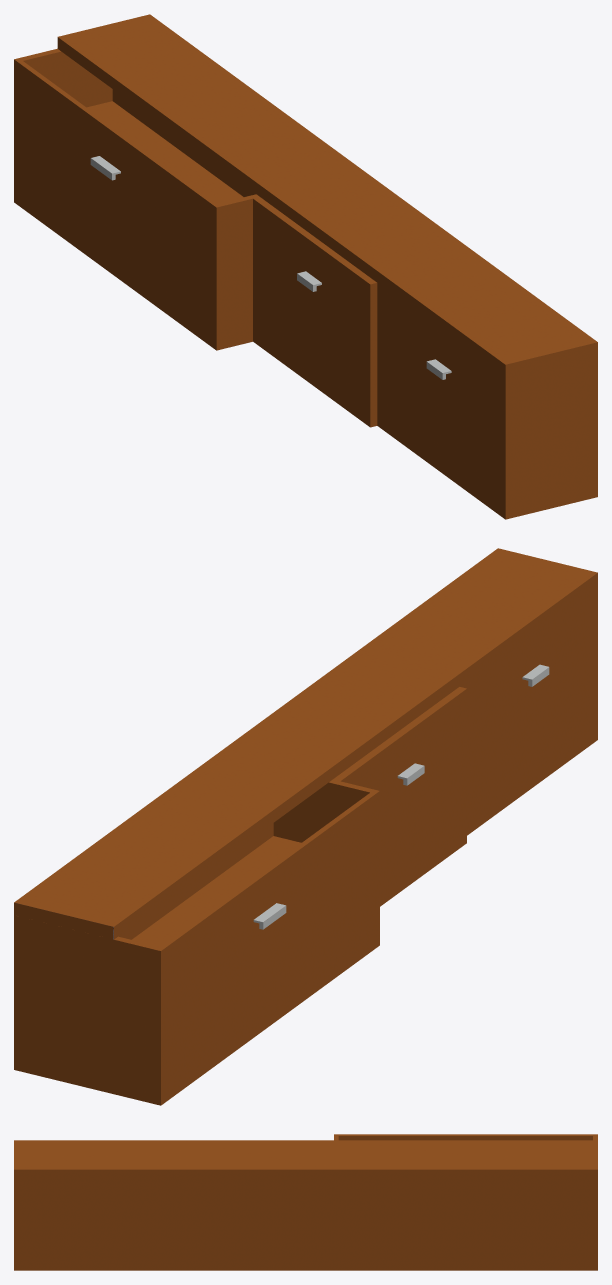
Rendered from Cajonera.fbx.
3 views of the same model, one above another, from view 1: azimuth 30°, elevation 25°; view 2: azimuth 150°, elevation 25°; view 3: azimuth 270°, elevation 25° (orthographic). The views are drawn at different scales.
Parts seen in each view (by area): view 1: Cajones; view 2: Cajones; view 3: Cajones.
Part boxes in pixels (left/top/right/bottom): Cajones: left=14, top=14, right=597, bottom=519; Cajones: left=14, top=548, right=597, bottom=1105; Cajones: left=14, top=1134, right=597, bottom=1270.
Bounding box in the file's own units: 78.35 × 80 × 419.
